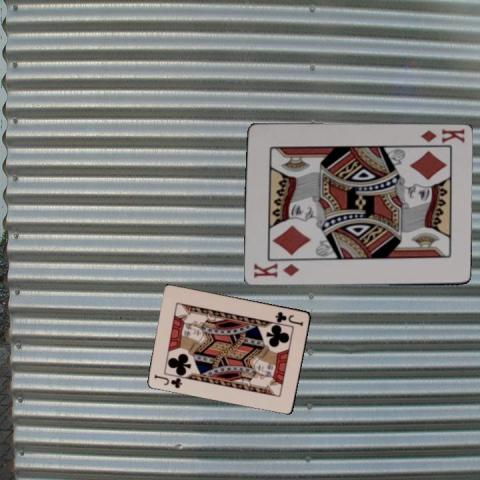Jc: (272, 308, 304, 327), (152, 372, 184, 390)
Kd: (250, 261, 300, 280), (418, 126, 466, 145)
